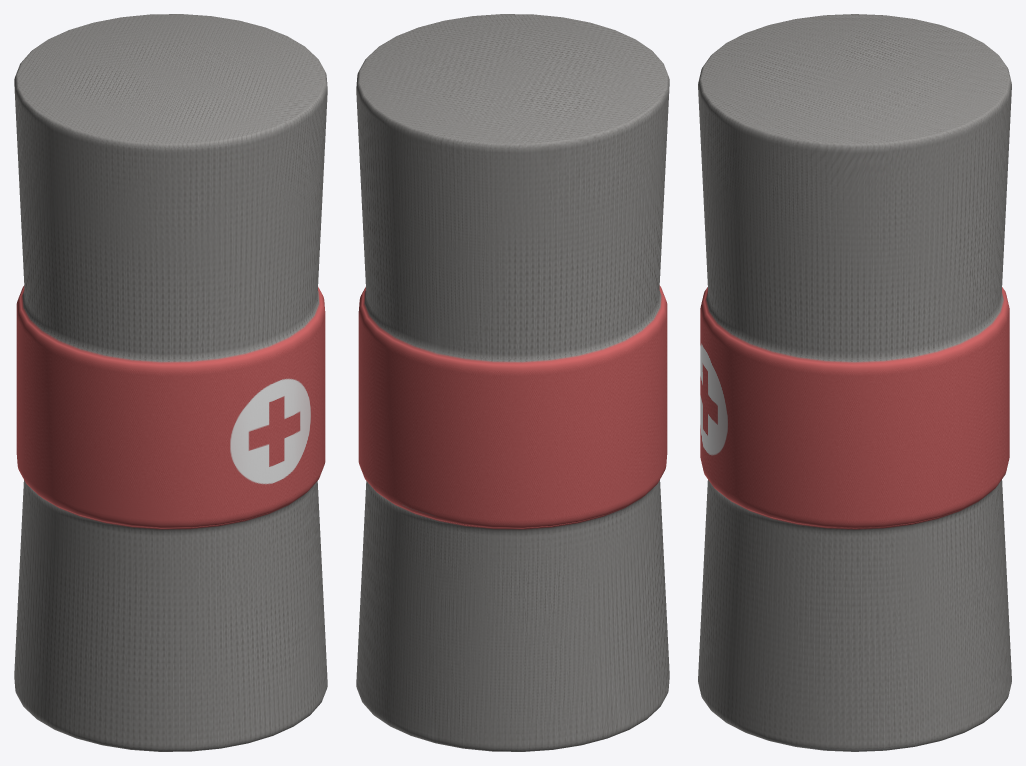
The model's file is bandages.glb.
3 renders of one model, left to right at view 1: azimuth 30°, elevation 25°; view 2: azimuth 150°, elevation 25°; view 3: azimuth 270°, elevation 25°, orthographic.
Visible parts, largest first — view 1: Object_2; view 2: Object_2; view 3: Object_2.
Part boxes in pixels (x1,y1,x2,y2): Object_2: [14, 14, 327, 751]; Object_2: [356, 14, 669, 751]; Object_2: [698, 14, 1011, 751].
Bounding box in the file's own units: 0.1328 × 0.2838 × 0.1328.
1 material, 1 textured.
